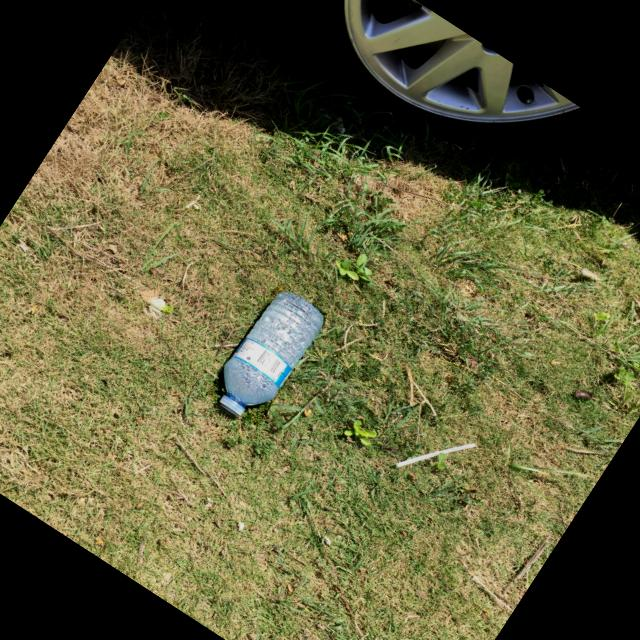Bottle cap: (218, 397, 243, 416)
Cigarette: (581, 271, 594, 278)
Clear plastic bottle: (218, 292, 322, 416)
Straw: (395, 443, 476, 468)
